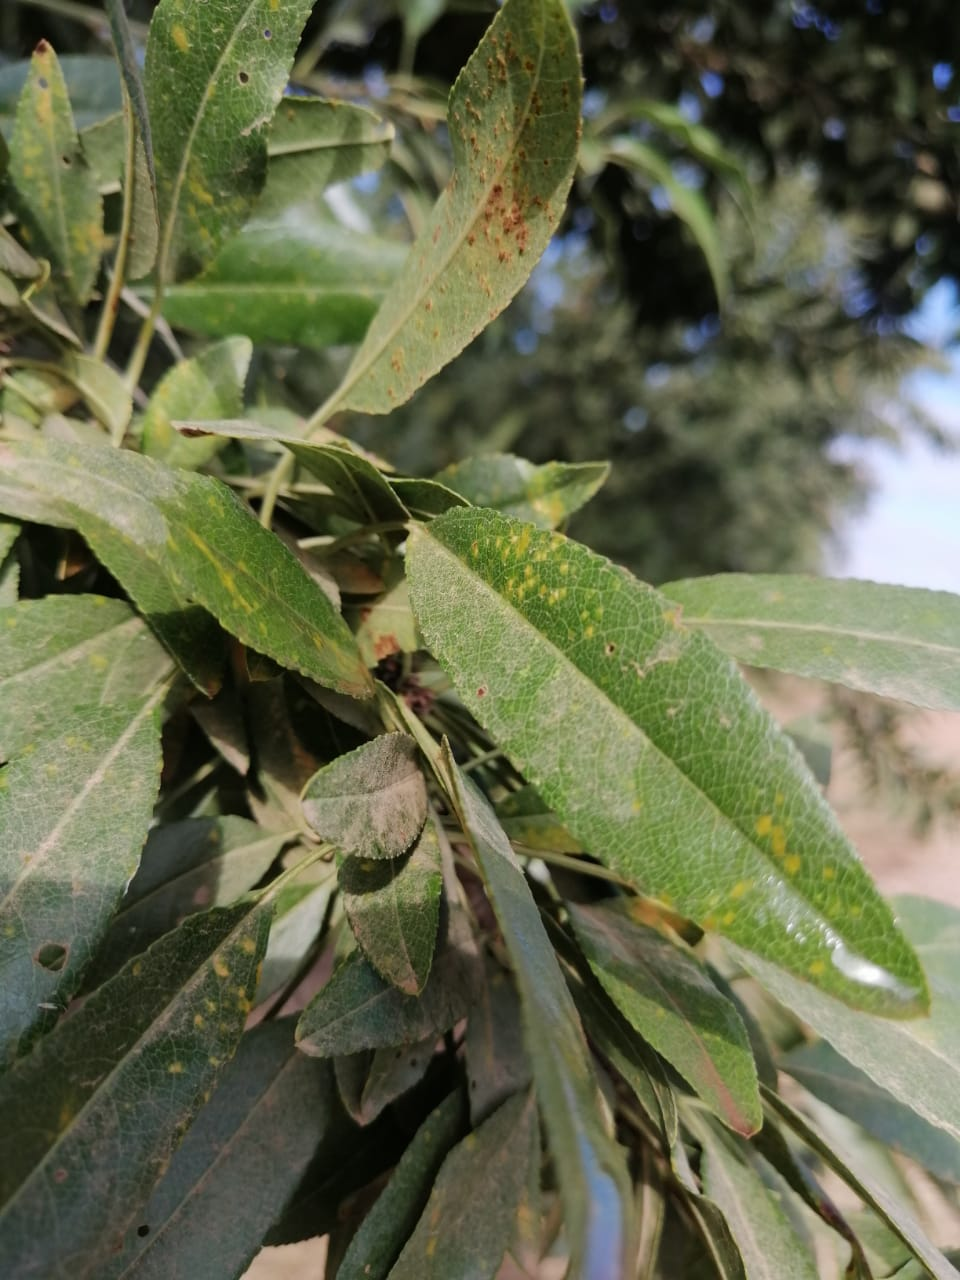rouille: (399, 502, 932, 1021), (334, 1, 587, 415), (1, 895, 272, 1280), (1, 681, 171, 1048), (295, 727, 426, 863)
